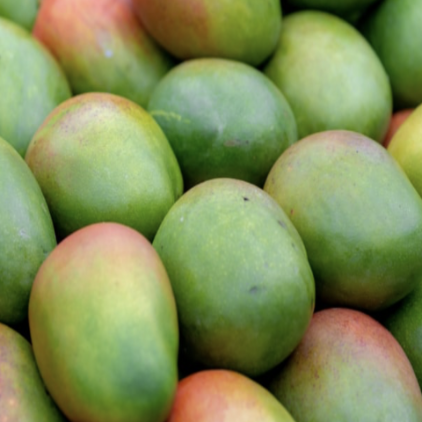mango: (137, 173, 327, 371), (15, 218, 196, 418), (262, 113, 422, 327), (138, 36, 306, 185)
